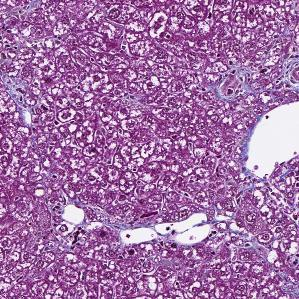fibrosis: (227, 72, 299, 109)
